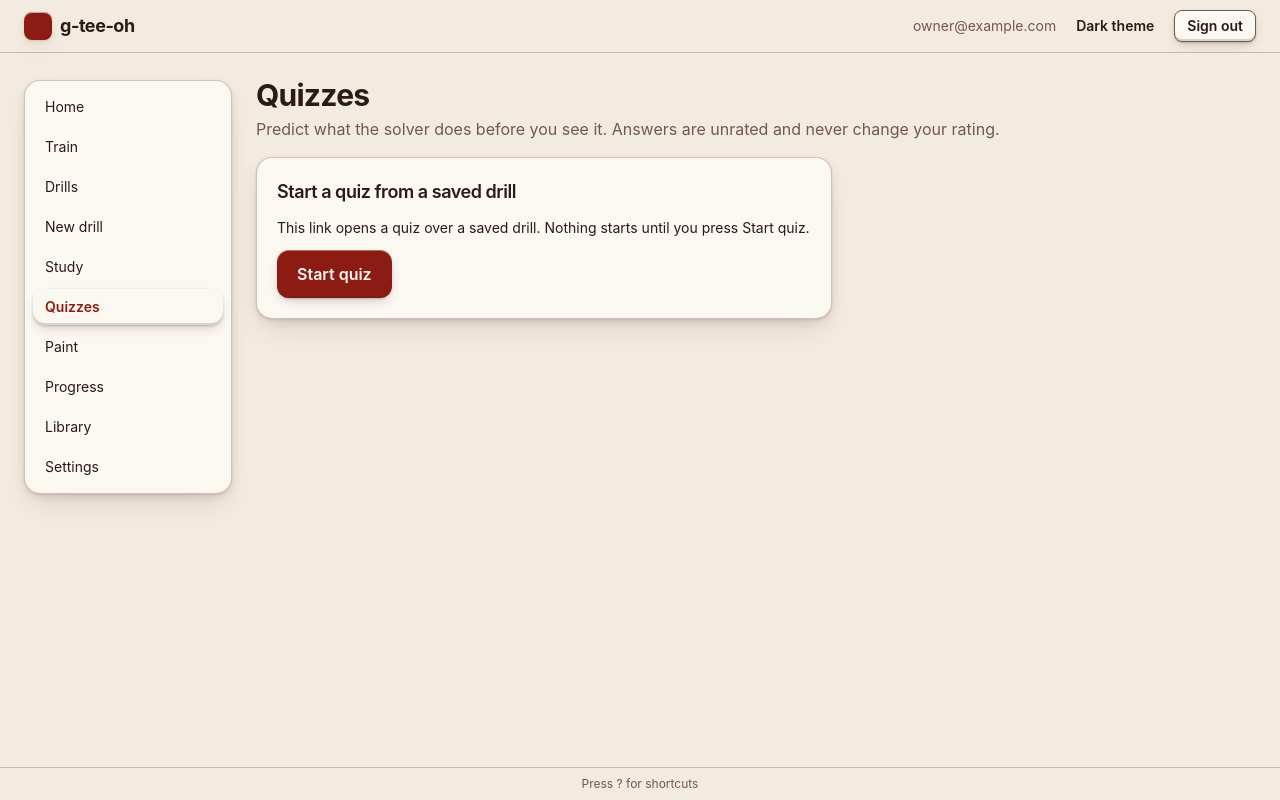
Test case: R3.16 /quiz answers and results › R3.16 a drill-backed session may keep its unlock message
Click the button "Start quiz" at point(334, 274), box [277,250,392,298]
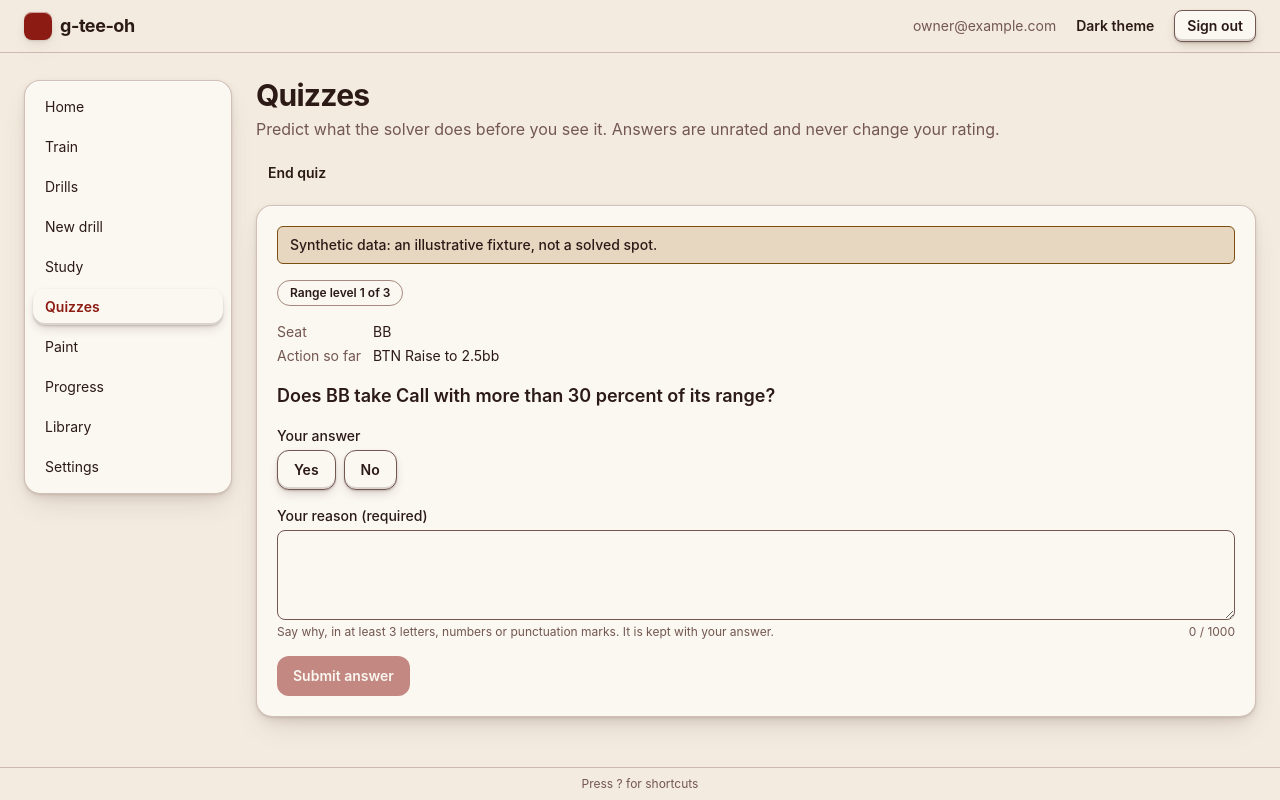
Click the button "Yes" at point(306, 470), box [277,450,336,490]
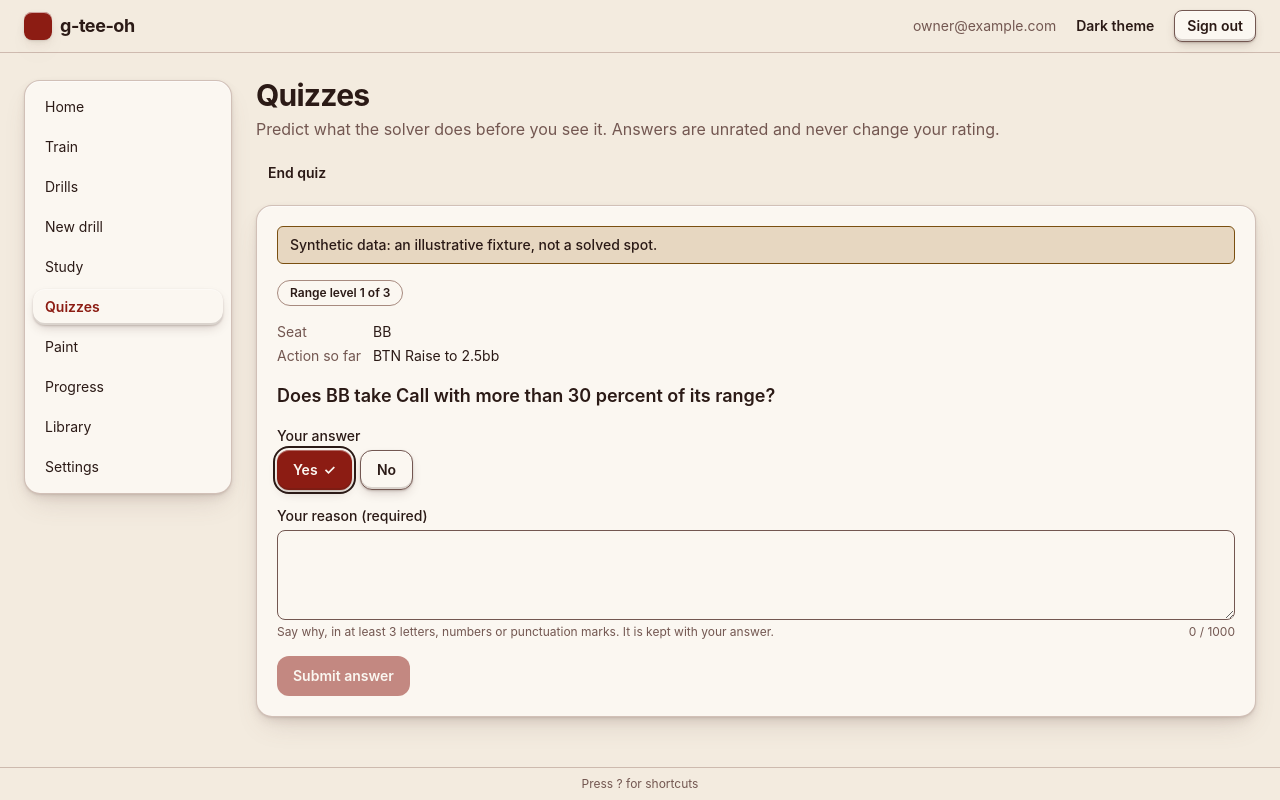
Type "Facing a small open, the price is good." into the text box labelled "Your reason (required)" at point(756, 575), box [277,530,1235,620]
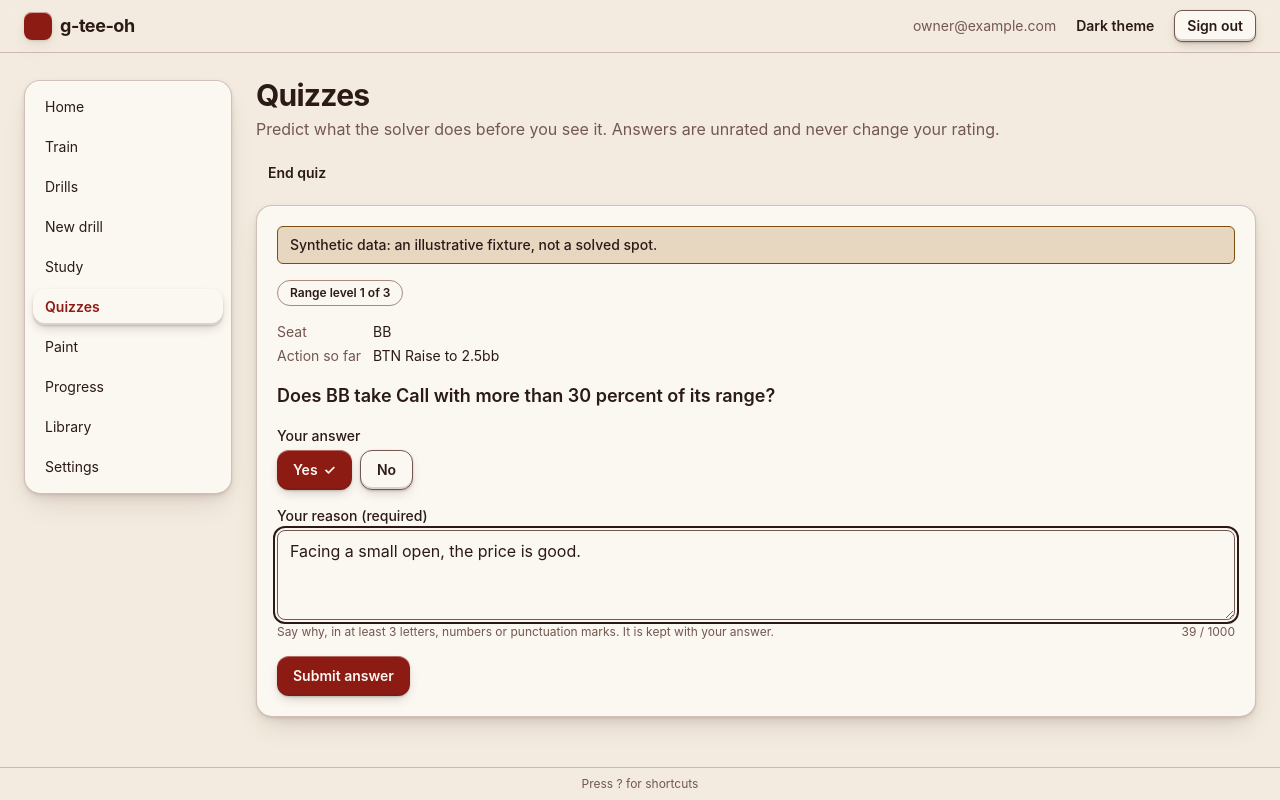
Click the button "Submit answer" at point(343, 676), box [277,656,410,696]
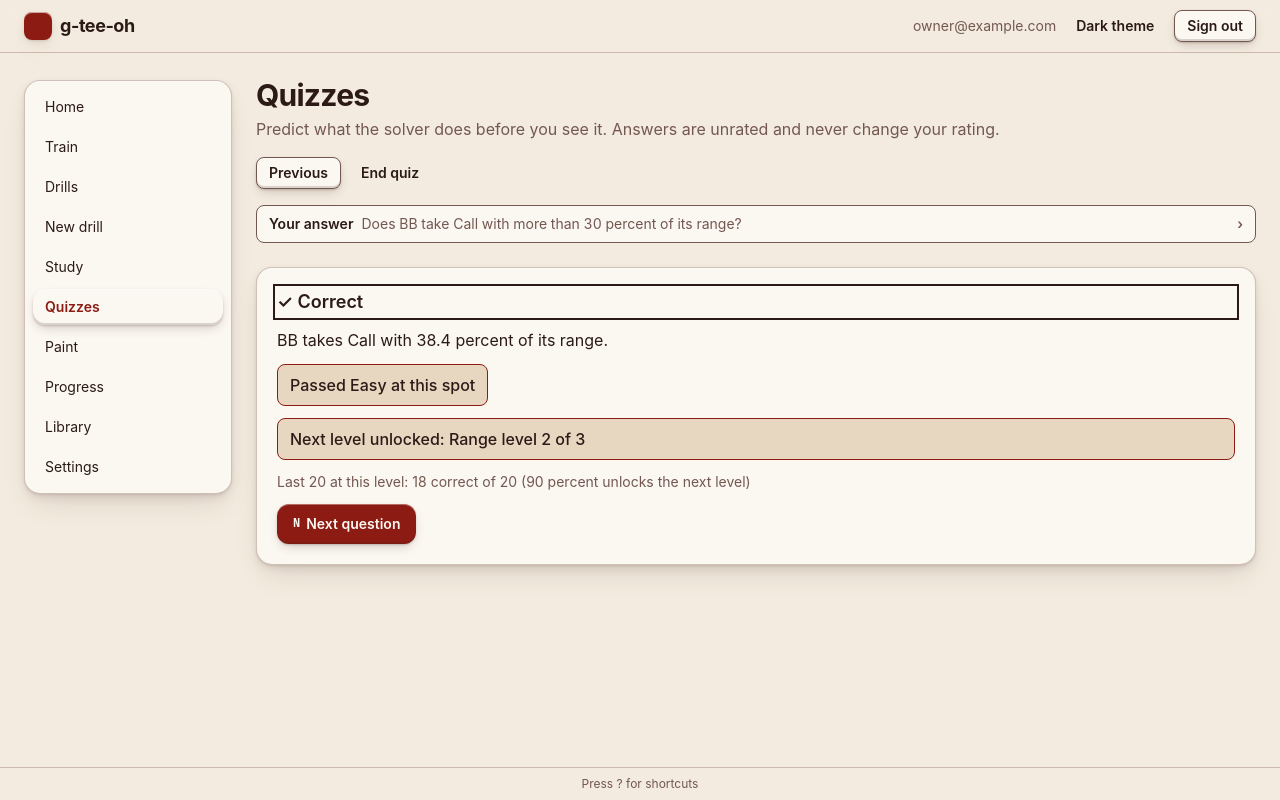
Now the text with test id "level-unlocked" reads "Next level unlocked: Range level 2 of 3", box [290,429,585,449]
